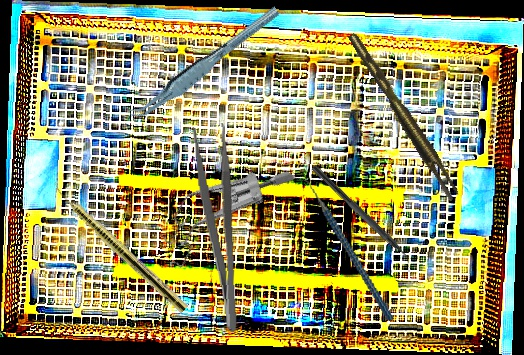Chopper: (292, 161, 395, 335), (304, 164, 420, 274)
Dressing Forceps: (191, 122, 242, 334)
Handpiece: (47, 179, 191, 315)
Speculum: (147, 131, 297, 298)
Tissue Forceps: (347, 27, 462, 205), (118, 5, 291, 123)
